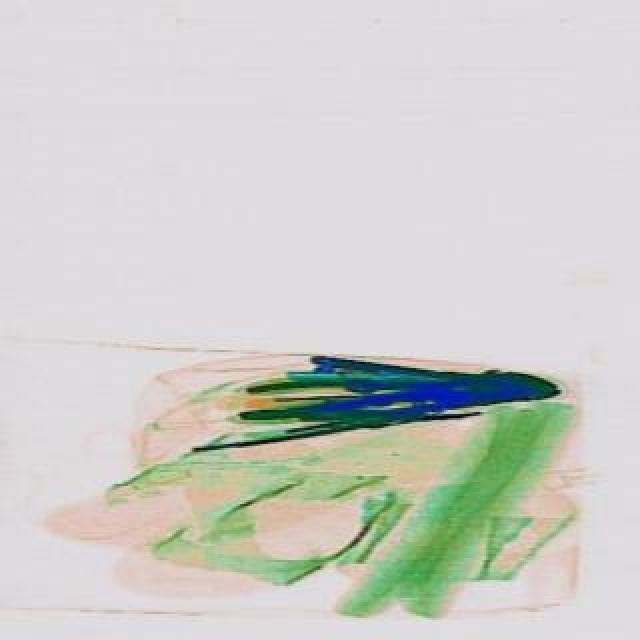wrench: (304, 354, 556, 424), (234, 368, 520, 420)
